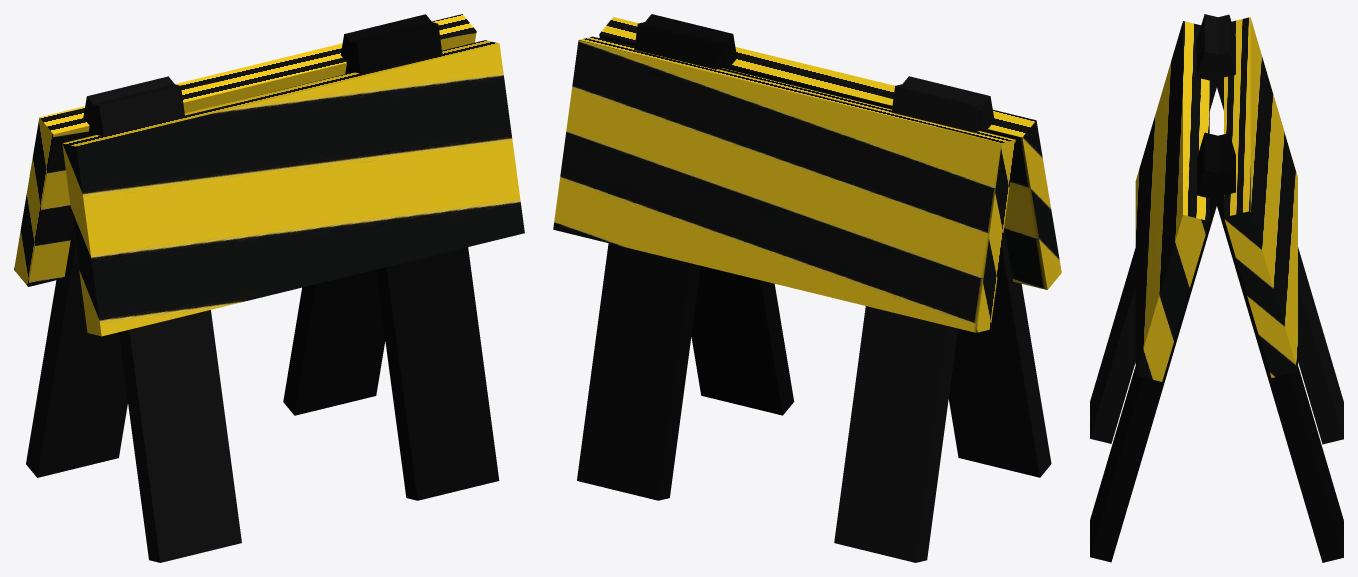
File: chan.glb
3 views of the same model, side by side, from view 1: azimuth 30°, elevation 25°; view 2: azimuth 150°, elevation 25°; view 3: azimuth 270°, elevation 25° (orthographic). The views are drawn at different scales.
Visible parts, largest first — view 1: Plane.013; view 2: Plane.013; view 3: Plane.013.
Boxes of the visible parts, <box> form: Plane.013: <box>14,14,524,562</box>; Plane.013: <box>553,14,1061,562</box>; Plane.013: <box>1090,14,1343,562</box>.
Size of the model in its own units: 1.72 by 1.62 by 0.9497.
4 materials, 2 textured.
